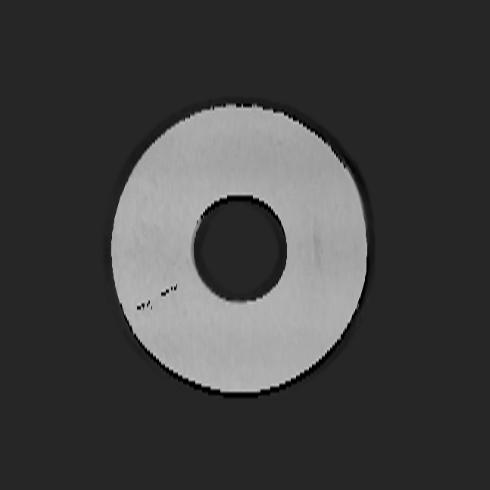defect: (137, 282, 178, 313), (313, 217, 321, 268)
